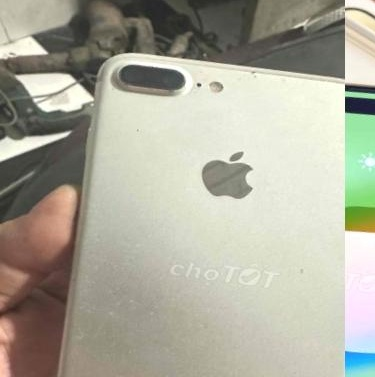scratch: (53, 226, 223, 370), (229, 63, 345, 119), (104, 53, 202, 100), (287, 258, 312, 279)
